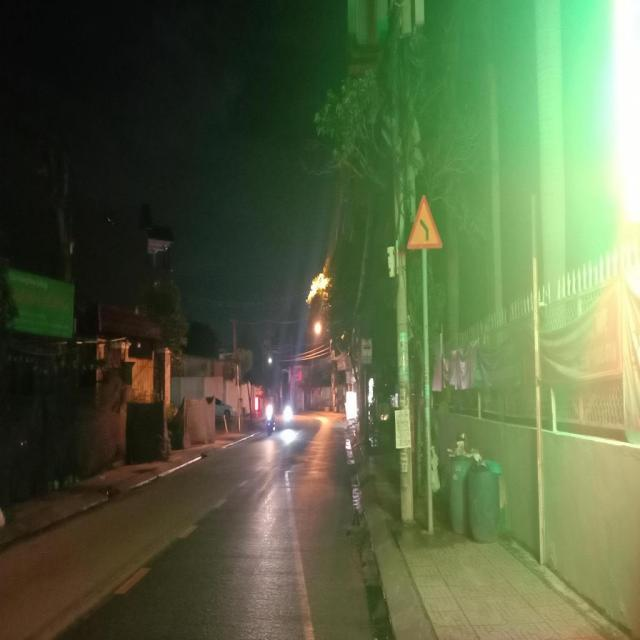cho_ngoat_nguy_hiem_ben_trai: (406, 191, 444, 250)
khac: (360, 336, 372, 363)
